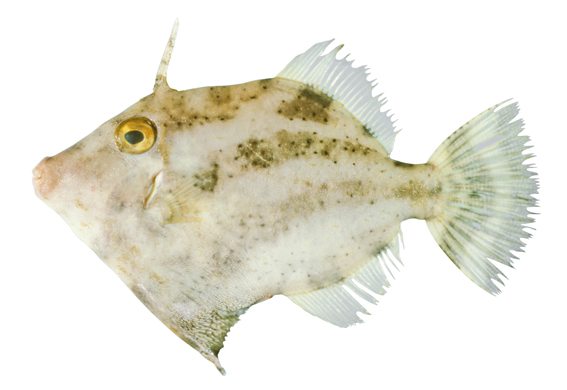fish: (32, 18, 540, 377)
